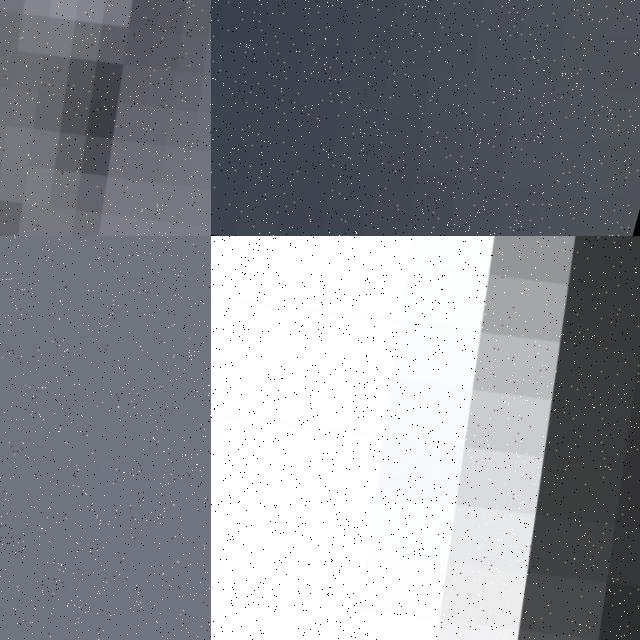0: (0, 0, 211, 236)
drone: (211, 236, 640, 640), (211, 0, 640, 236)
